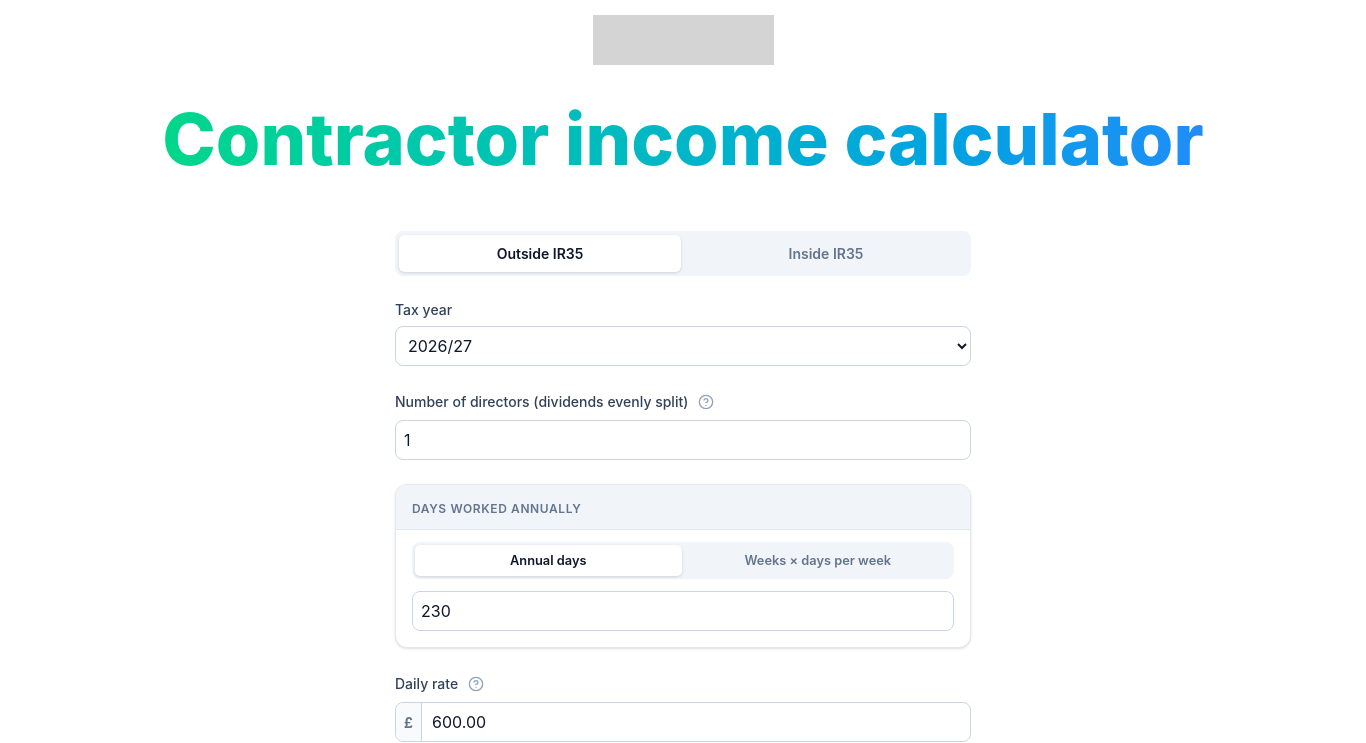
Test: inside IR35: gross PAYE salary tooltip shows on hover
Click the button "Inside IR35": {"x": 826, "y": 254} [685,235,967,272]
(page scrolled)
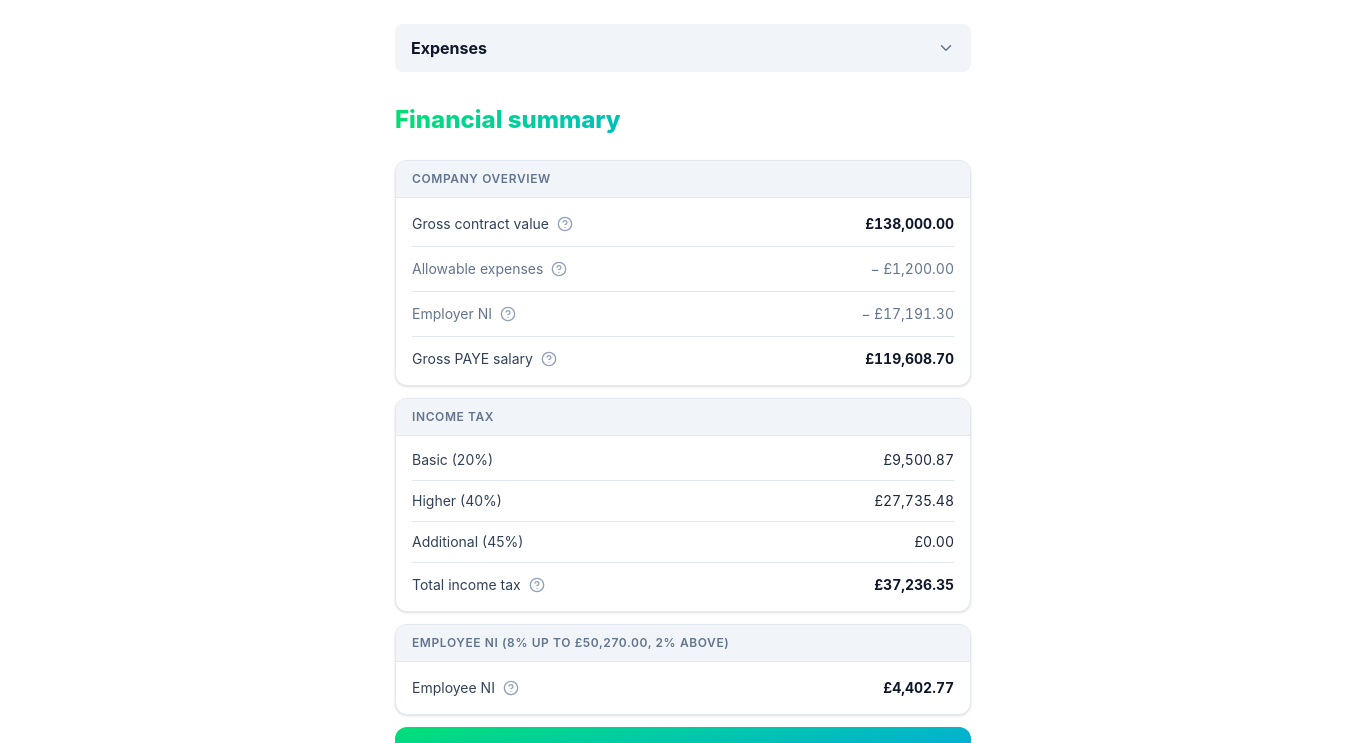
Hover over the button named "Gross PAYE salary information": {"x": 549, "y": 359} [537,347,561,371]
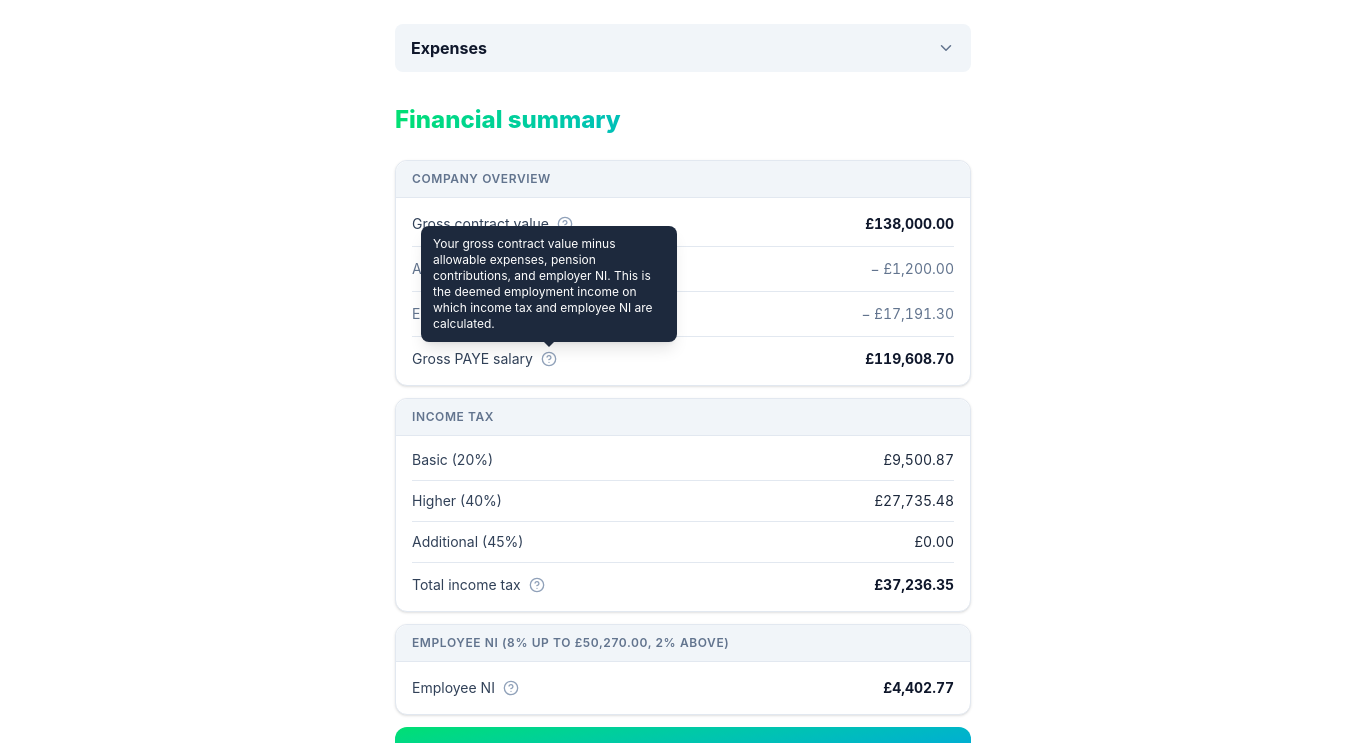
expect the tooltip is shown: met, box [421,226,677,342]
